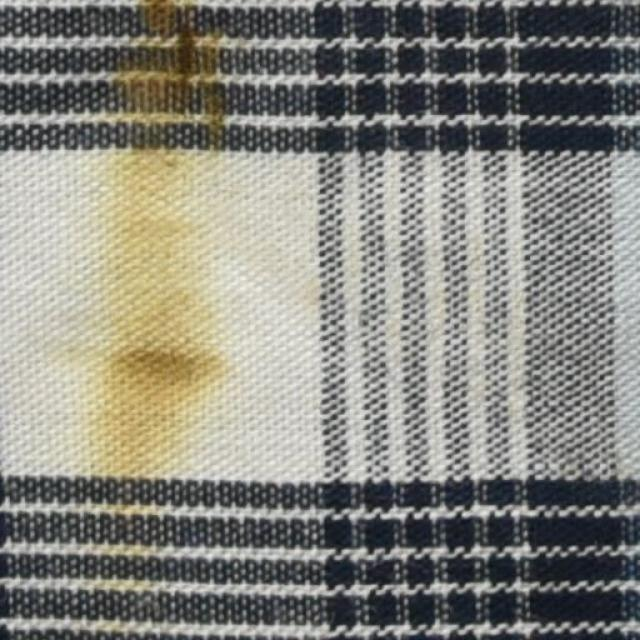Stain: (74, 0, 240, 545)
